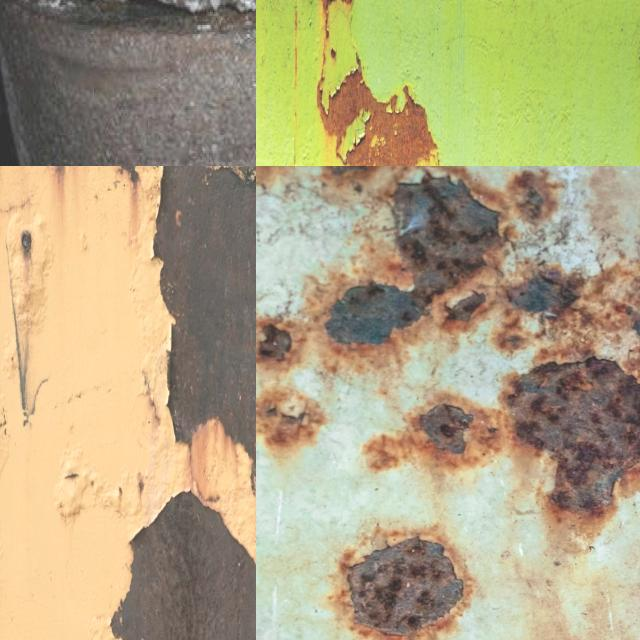Pitting Corrosion: (256, 166, 640, 542), (347, 536, 464, 635)
Uniform Corrosion: (155, 166, 256, 479), (116, 494, 256, 640), (318, 0, 440, 166)
